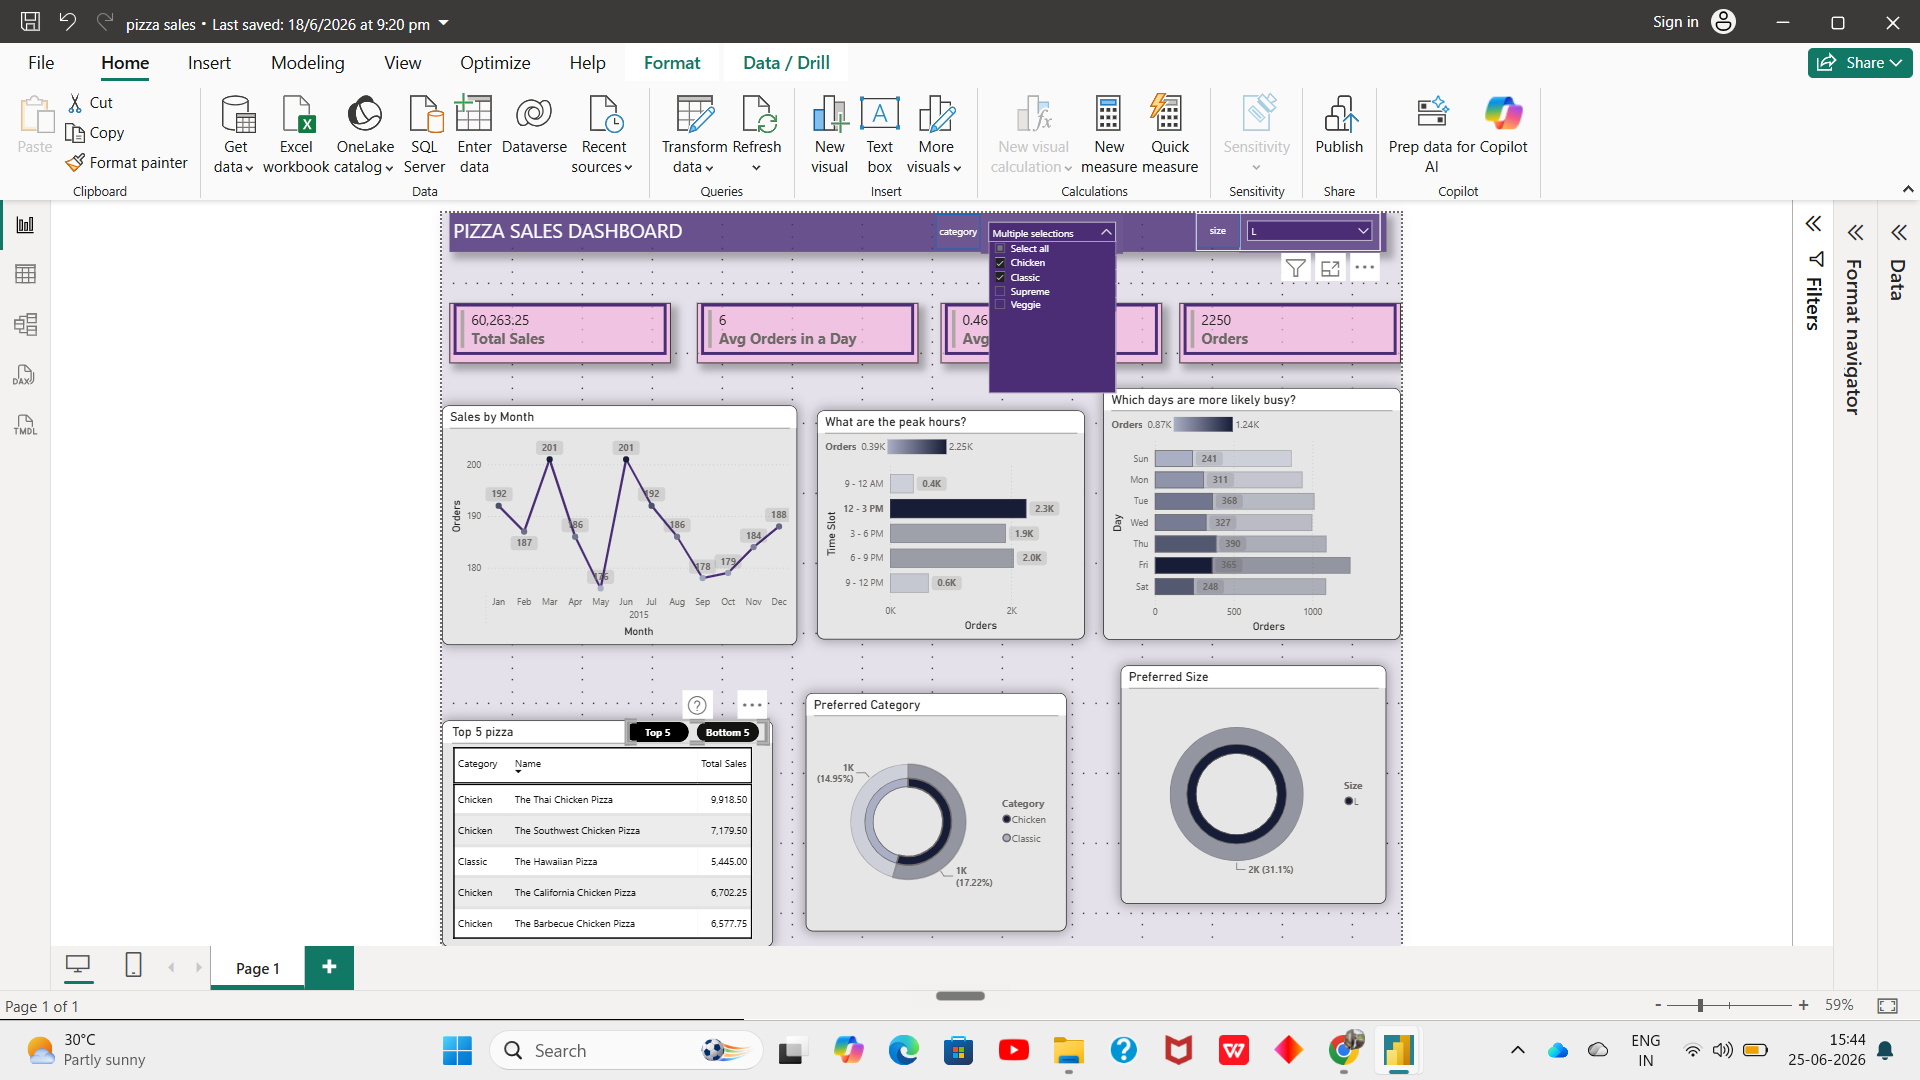

Layout of this report page (visuals, bound fields, positions):
{"tool":"powerbi","page":{"name":"Page 1","canvas":[1300,1000],"ordinal":0},"visuals":[{"type":"textbox","title":"PIZZA SALES DASHBOARD","box":[10,0,1270,52.5],"z":0},{"type":"slicer","fields":{"Values":["pizzas.Size"]},"box":[1082.2,0,190.4,53.2],"z":0,"group":"g1"},{"type":"slicer","fields":{"Values":["Pizza Types.Category"]},"box":[729.8,1.6,192.8,53.2],"z":0,"group":"g2"},{"type":"shape","box":[1022.6,0,59.6,46.8],"z":1000,"group":"g1"},{"type":"shape","box":[669.4,1.6,60.4,46.8],"z":1000,"group":"g2"},{"type":"clusteredBarChart","title":"What are the peak hours?","fields":{"Category":["Orders.Time Slot"],"Y":["All Measures.Orders"]},"box":[508.3,268.3,363.3,310],"z":1000},{"type":"clusteredBarChart","title":"Which days are more likely busy?","fields":{"Category":["Date Table.Day"],"Y":["All Measures.Orders"]},"box":[897.1,237.1,402.9,341.4],"z":2000},{"type":"lineChart","title":"Sales by Month","fields":{"Category":["Date Table.Year","Date Table.Month"],"Y":["All Measures.Orders"]},"box":[0,261.7,481.7,325],"z":3000},{"type":"donutChart","title":"Preferred Category","fields":{"Y":["All Measures.Orders"],"Category":["Pizza Types.Category"]},"box":[493.3,650,353.3,323.3],"z":4000},{"type":"donutChart","title":"Preferred Size","fields":{"Y":["All Measures.Orders"],"Category":["pizzas.Size"]},"box":[920,612.9,360,322.9],"z":5000},{"type":"tableEx","title":"Top 5 pizza","fields":{"Values":["Pizza Types.Category","Pizza Types.Name","All Measures.Total Sales"]},"box":[0,688.5,448.5,307],"z":6000},{"type":"bookmarkNavigator","box":[248.3,688.3,193.3,31.7],"z":8000},{"type":"multiRowCard","fields":{"Values":["All Measures.Total Sales"]},"box":[10,121.7,300,81.7],"z":9000},{"type":"multiRowCard","title":"average orders","fields":{"Values":["All Measures.Avg Orders in a Day"]},"box":[345,121.7,300,81.7],"z":10000},{"type":"multiRowCard","title":"average pizzas","fields":{"Values":["All Measures.Avg Pizzas in an order"]},"box":[676.7,121.7,300,81.7],"z":11000},{"type":"multiRowCard","fields":{"Values":["All Measures.Orders"]},"box":[1000,121.7,300,81.7],"z":12000},{"type":"group","id":"g1","title":"Category","box":[1022.6,0,250,53.2],"z":13000},{"type":"group","id":"g2","title":"Category","box":[669.4,1.6,253.2,53.2],"z":14000}]}

Visuals, with their boxes on the page's 1300x1000 design canvas (x1, y1, x2, y2). These are canvas units, not pixel positions in the 1920x1080 screenshot, which may show the page scaled, cropped or inside an application window:
"PIZZA SALES DASHBOARD" textbox: x1=10 y1=0 x2=1280 y2=52
slicer - pizzas.Size: x1=1082 y1=0 x2=1273 y2=53
slicer - Pizza Types.Category: x1=730 y1=2 x2=923 y2=55
shape: x1=1023 y1=0 x2=1082 y2=47
shape: x1=669 y1=2 x2=730 y2=48
"What are the peak hours?" clusteredBarChart: x1=508 y1=268 x2=872 y2=578
"Which days are more likely busy?" clusteredBarChart: x1=897 y1=237 x2=1300 y2=578
"Sales by Month" lineChart: x1=0 y1=262 x2=482 y2=587
"Preferred Category" donutChart: x1=493 y1=650 x2=847 y2=973
"Preferred Size" donutChart: x1=920 y1=613 x2=1280 y2=936
"Top 5 pizza" tableEx: x1=0 y1=688 x2=448 y2=996
bookmarkNavigator: x1=248 y1=688 x2=442 y2=720
multiRowCard - All Measures.Total Sales: x1=10 y1=122 x2=310 y2=203
"average orders" multiRowCard: x1=345 y1=122 x2=645 y2=203
"average pizzas" multiRowCard: x1=677 y1=122 x2=977 y2=203
multiRowCard - All Measures.Orders: x1=1000 y1=122 x2=1300 y2=203
"Category" group: x1=1023 y1=0 x2=1273 y2=53
"Category" group: x1=669 y1=2 x2=923 y2=55
